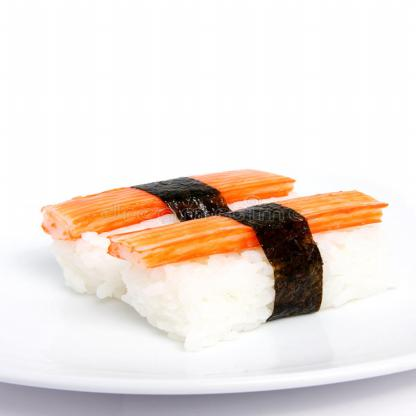kani: (92, 188, 400, 366)
